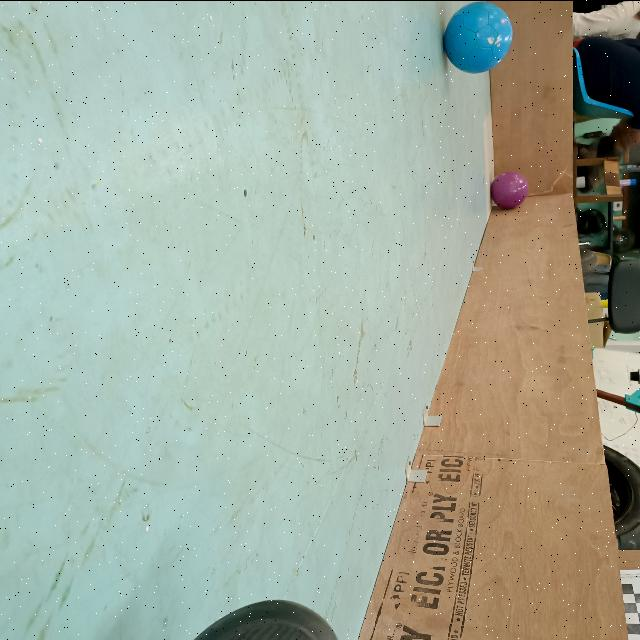B: (443, 1, 515, 74)
P: (489, 168, 531, 210)
